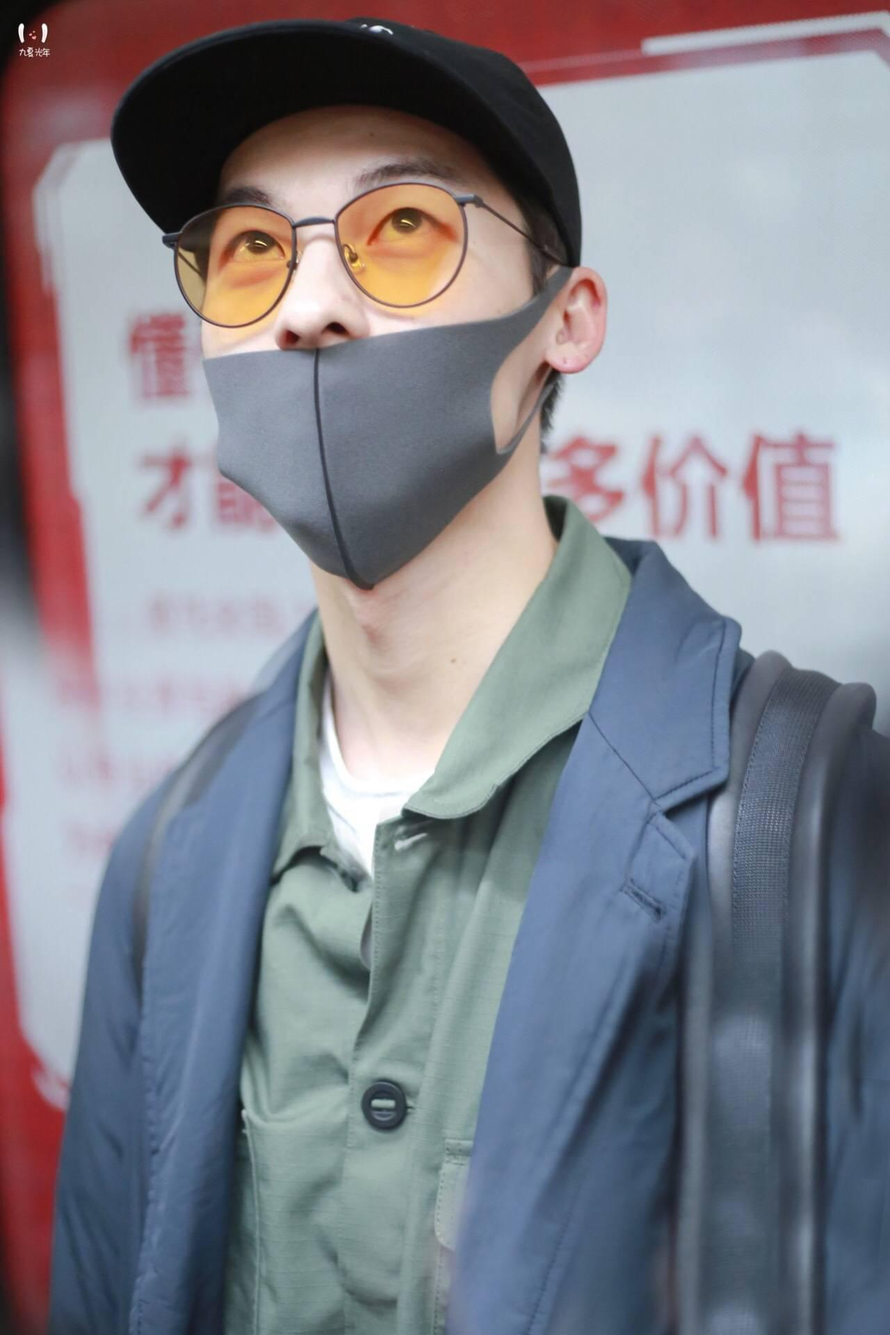WRONG: (204, 133, 519, 539)
